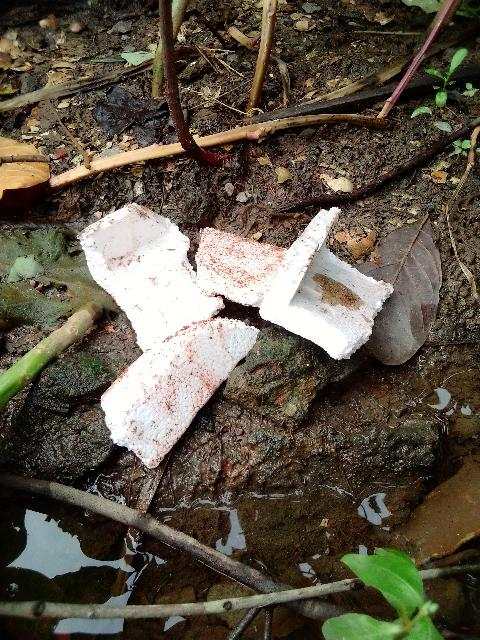cocksheet: (5, 99, 426, 465)
